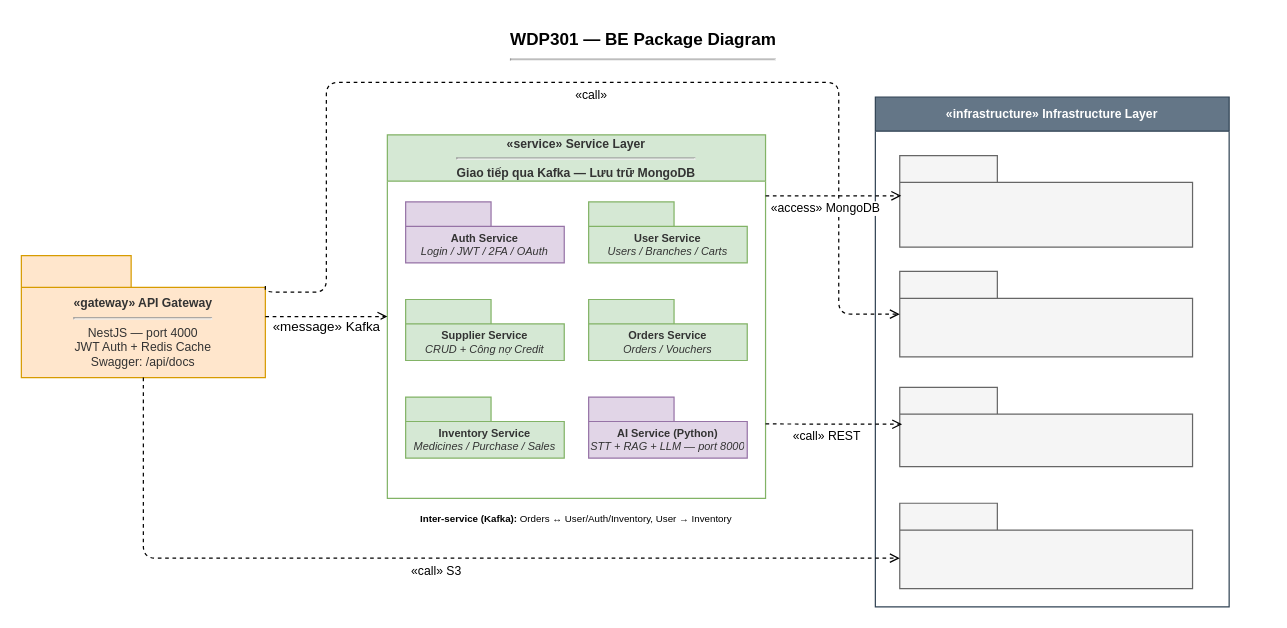
Some shapes in this 1287 by 628 pixel diagram are drawn without their labels. The shapes that lost their labels are listed below. From the top down, each one's centre as x and y in pixels, then its label:
point (1046, 200): «database» MongoDB Database chính (Mongoose ODM) Tất cả service đọc/ghi
point (1046, 313): «cache» Redis Cache-Aside — Gateway cache
point (1046, 426): «database» Qdrant Vector DB — AI RAG knowledge base
point (1046, 545): «cloud» AWS Cloud S3 / SQS / SES / Lambda / EC2
